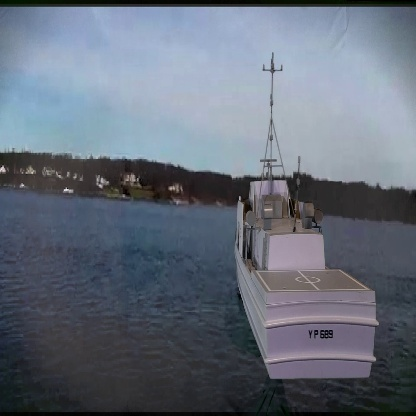YP689: (229, 52, 388, 378)
